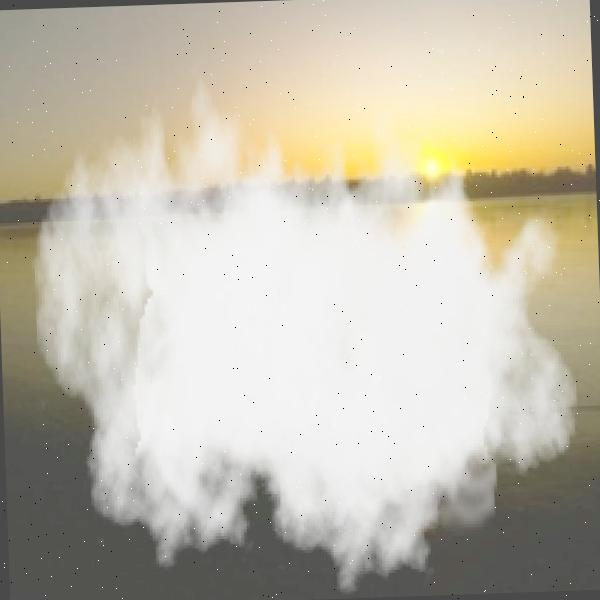smoke: (24, 41, 586, 600)
